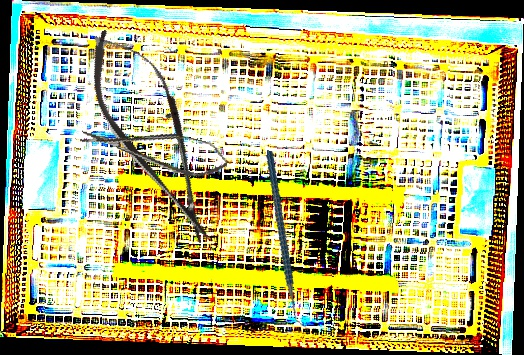Chopper: (237, 150, 338, 331)
Micro Scissor: (70, 15, 237, 257), (77, 113, 232, 184)
